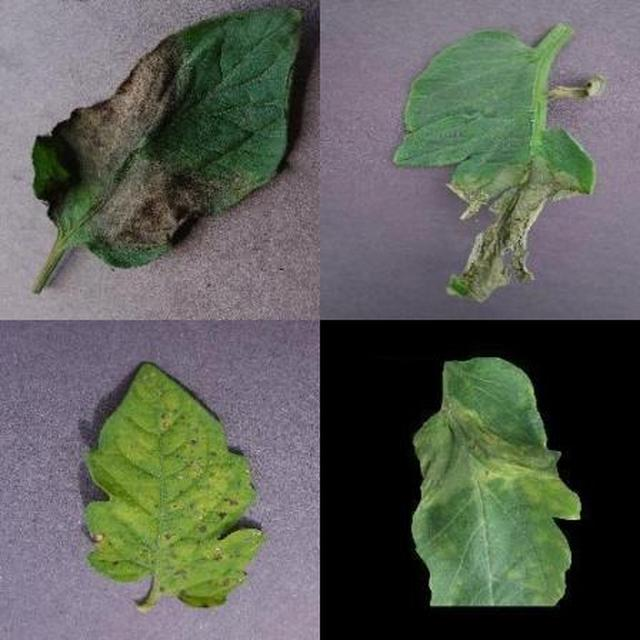Late Blight Leaf: (240, 193, 640, 640)
